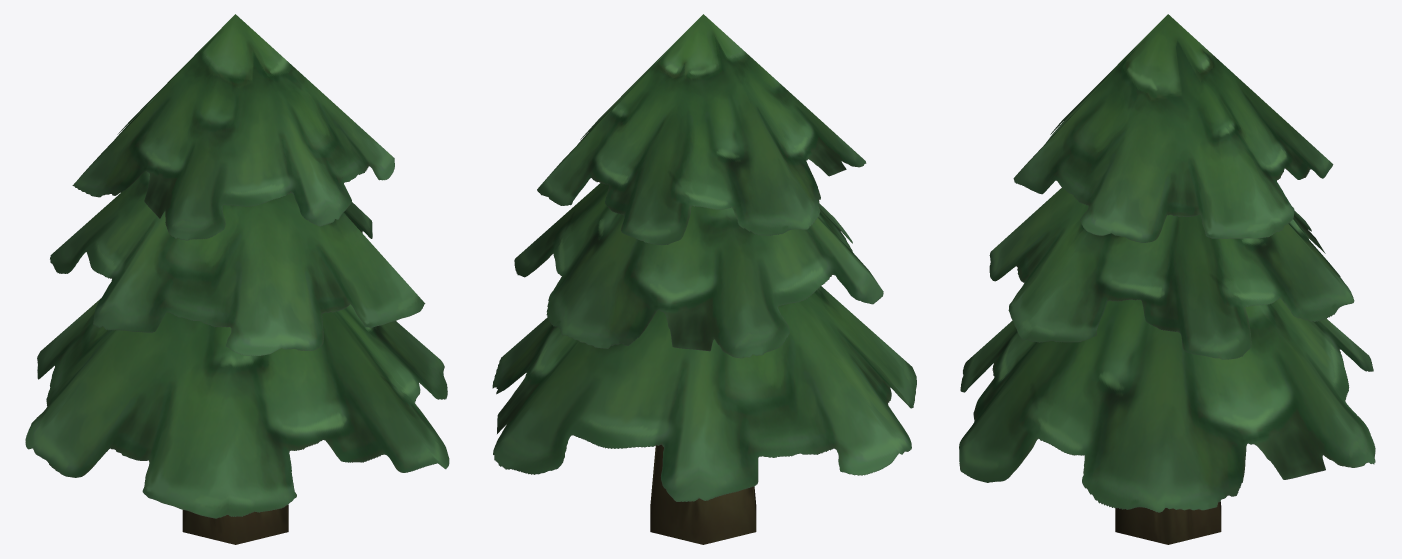
The model's file is Pine_Tree.fbx.
3 renders of one model, left to right at view 1: azimuth 30°, elevation 25°; view 2: azimuth 150°, elevation 25°; view 3: azimuth 270°, elevation 25°, orthographic.
Visible parts, largest first — view 1: Pine_Tree; view 2: Pine_Tree; view 3: Pine_Tree.
Boxes of the visible parts, left/top/right/bottom form: Pine_Tree: left=25, top=14, right=449, bottom=544; Pine_Tree: left=492, top=14, right=916, bottom=544; Pine_Tree: left=959, top=14, right=1375, bottom=544.
Size of the model in its own units: 12.2 by 13.57 by 10.7.
